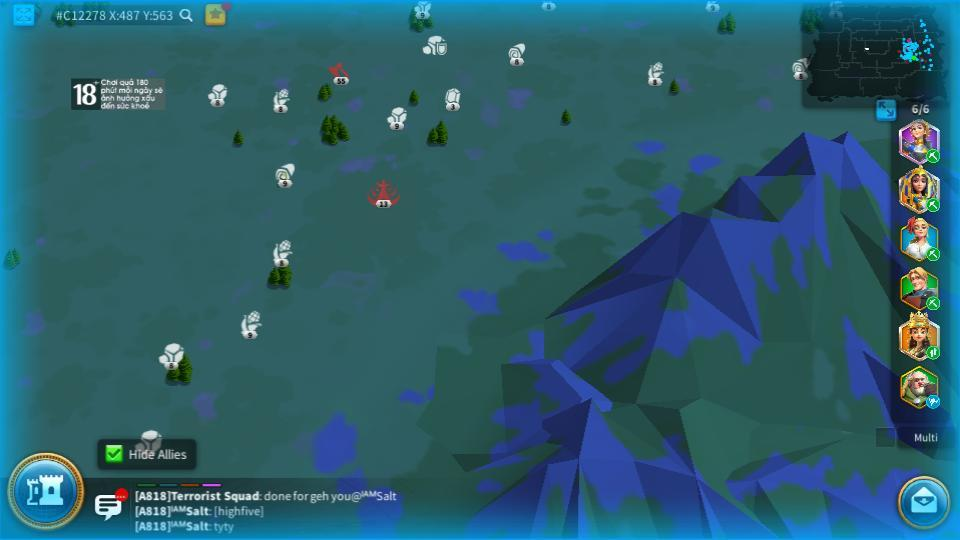gem-z-out: (442, 87, 461, 109)
march_farming: (925, 248, 941, 261)
march_idle: (925, 396, 942, 408)
march_marching: (924, 197, 939, 212), (924, 345, 939, 359), (925, 149, 941, 162), (926, 298, 941, 309)
